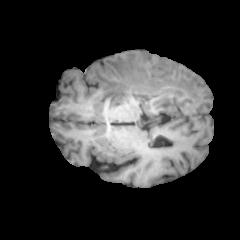glioma: (94, 51, 199, 109)
